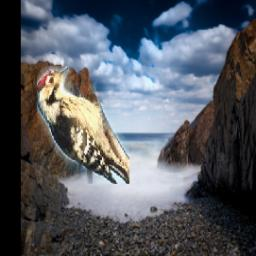Woodpecker: (37, 66, 129, 184)
